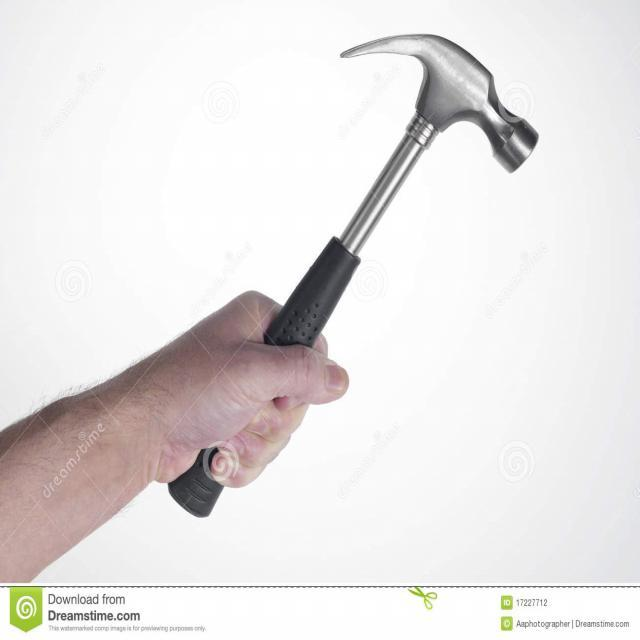hammer: (160, 27, 546, 521)
